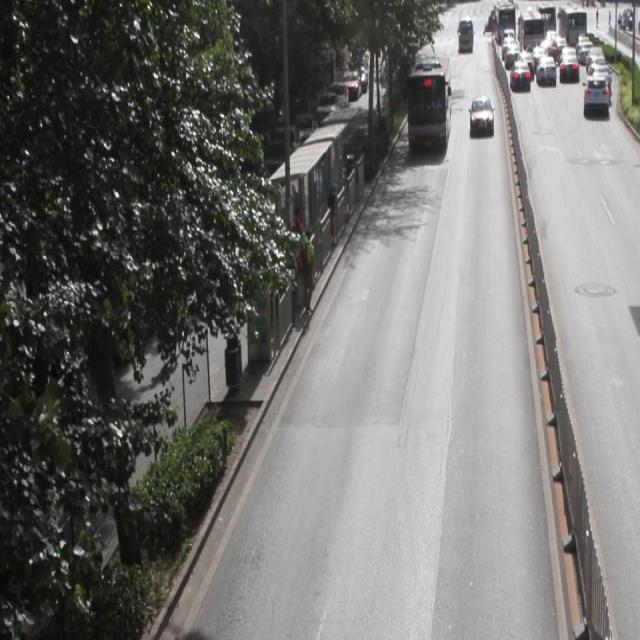car: (468, 95, 493, 134)
van: (407, 52, 450, 146)
